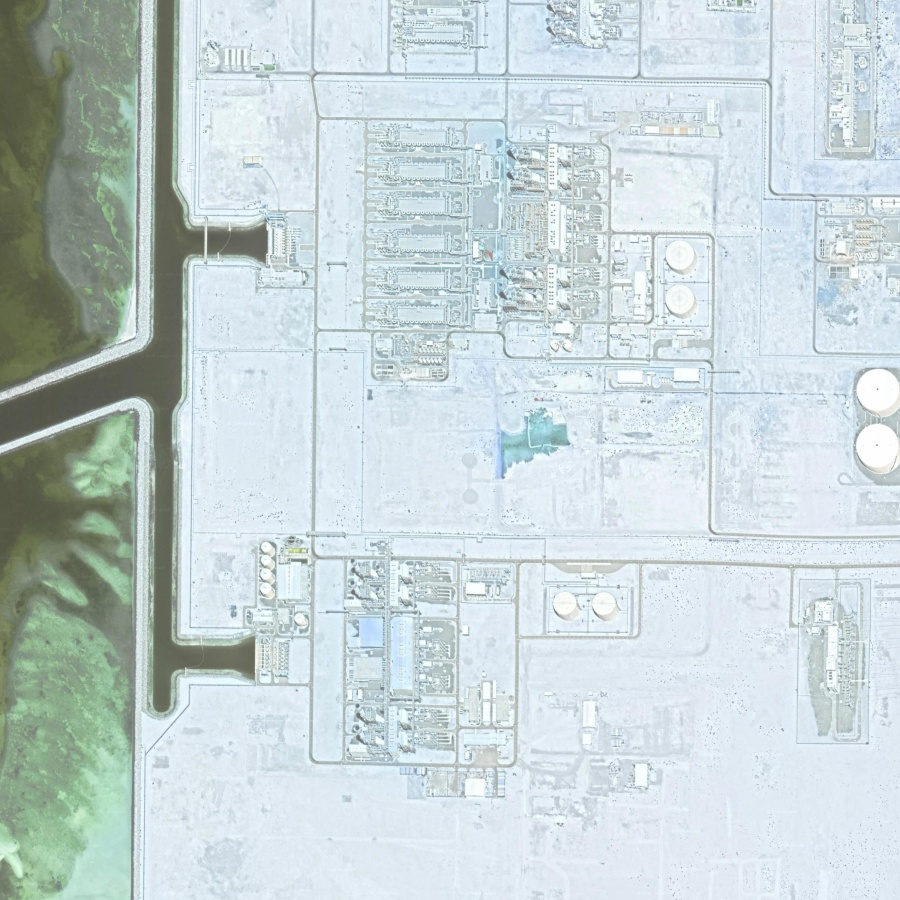PowerPlant: (248, 522, 662, 806), (349, 114, 711, 394)
